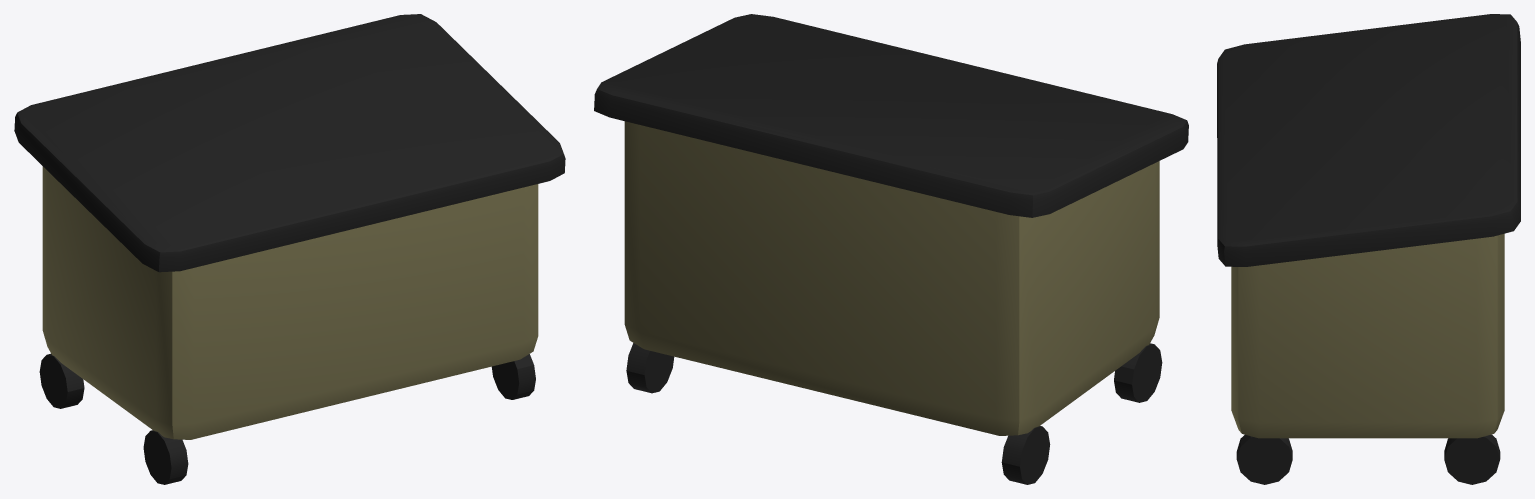
File: SM_trashbox_large.fbx
3 renders of one model, left to right at view 1: azimuth 30°, elevation 25°; view 2: azimuth 150°, elevation 25°; view 3: azimuth 270°, elevation 25°, orthographic. The views are drawn at different scales.
Parts seen in each view (by area): view 1: Object32433; view 2: Object32433; view 3: Object32433.
Part boxes in pixels (box(x1,y1,x2,y2)): Object32433: box(14, 14, 565, 484); Object32433: box(594, 14, 1188, 484); Object32433: box(1217, 14, 1520, 484).
Bounding box in the file's own units: 85.41 × 55.94 × 53.78.
